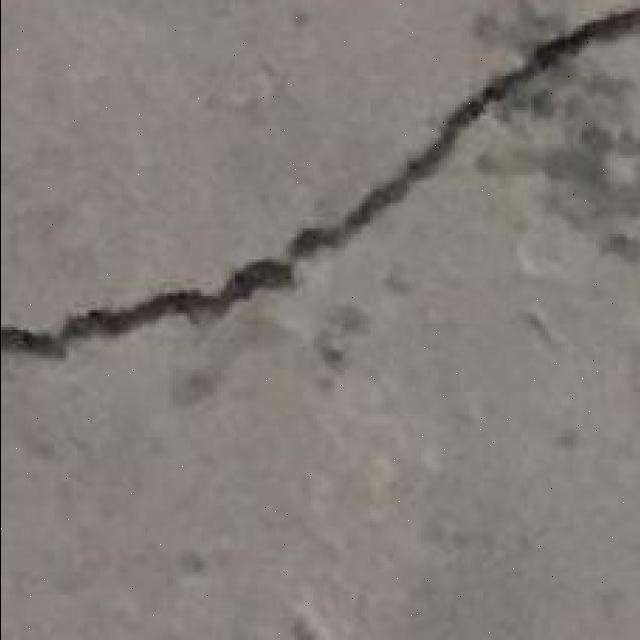crack: (4, 165, 151, 318), (17, 273, 263, 354), (481, 0, 636, 103)
